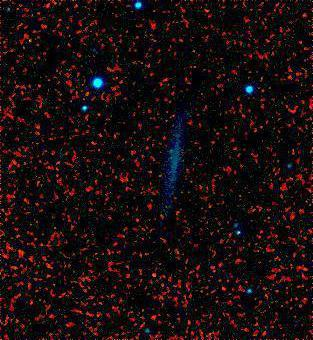star: (139, 259, 169, 289)
